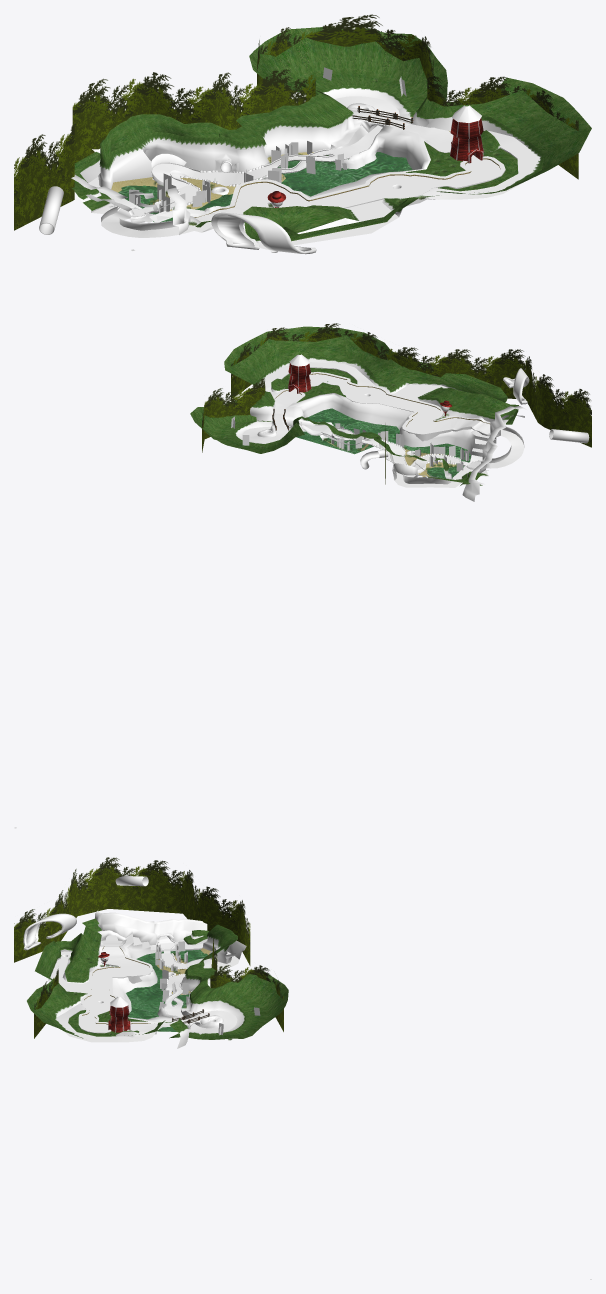
The model's file is minigolf_track.glb.
3 renders of one model, top to bottom at view 1: azimuth 30°, elevation 25°; view 2: azimuth 150°, elevation 25°; view 3: azimuth 270°, elevation 25°, orthographic. The views are drawn at different scales.
Visible parts, largest first — view 1: racetrack_grass-dark.jpg__, foliage.png__, rock_grey.jpg__, astro_turf.jpg__, bow_tile.jpg__, tarmac.jpg__, rock_brown.jpg__, racetrack_blend-dark.png__, seabed.jpg__, GrassTall.png__, HortonRockWall2.jpg__, ribbed_steel.jpg__ (+5 smaller); view 2: racetrack_grass-dark.jpg__, foliage.png__, rock_brown.jpg__, astro_turf.jpg__, bow_tile.jpg__, tarmac.jpg__, seabed.jpg__, rock_grey.jpg__, racetrack_blend-dark.png__, HortonRockWall2.jpg__, GrassTall.png__, windmill_wall.jpg__; view 3: foliage.png__, racetrack_grass-dark.jpg__, astro_turf.jpg__, bow_tile.jpg__, rock_brown.jpg__, HortonRockWall2.jpg__, rock_grey.jpg__, tarmac.jpg__, seabed.jpg__, racetrack_blend-dark.png__, GrassTall.png__, windmill_wall.jpg__.
Boxes of the visible parts, <box> form: racetrack_grass-dark.jpg__: <box>71,27,591,241</box>; foliage.png__: <box>14,14,578,230</box>; rock_grey.jpg__: <box>92,87,411,226</box>; astro_turf.jpg__: <box>156,96,500,226</box>; bow_tile.jpg__: <box>88,130,540,249</box>; tarmac.jpg__: <box>39,141,518,254</box>; rock_brown.jpg__: <box>79,112,541,251</box>; racetrack_blend-dark.png__: <box>78,85,544,240</box>; seabed.jpg__: <box>118,152,412,222</box>; GrassTall.png__: <box>129,67,406,212</box>; HortonRockWall2.jpg__: <box>71,112,410,234</box>; ribbed_steel.jpg__: <box>101,105,481,252</box>; racetrack_grass-dark.jpg__: <box>190,326,518,485</box>; foliage.png__: <box>202,323,591,484</box>; rock_brown.jpg__: <box>250,358,527,478</box>; astro_turf.jpg__: <box>242,374,490,465</box>; bow_tile.jpg__: <box>260,362,495,487</box>; tarmac.jpg__: <box>281,367,589,479</box>; seabed.jpg__: <box>296,408,470,478</box>; rock_grey.jpg__: <box>235,419,508,484</box>; racetrack_blend-dark.png__: <box>234,355,494,485</box>; HortonRockWall2.jpg__: <box>272,406,526,501</box>; GrassTall.png__: <box>231,416,468,471</box>; windmill_wall.jpg__: <box>288,363,451,416</box>; foliage.png__: <box>14,857,283,1038</box>; racetrack_grass-dark.jpg__: <box>27,918,288,1039</box>; astro_turf.jpg__: <box>82,944,237,1033</box>; bow_tile.jpg__: <box>48,933,239,1042</box>; rock_brown.jpg__: <box>24,922,230,1048</box>; HortonRockWall2.jpg__: <box>95,910,207,1029</box>; rock_grey.jpg__: <box>98,930,246,1034</box>; tarmac.jpg__: <box>23,876,227,1035</box>; seabed.jpg__: <box>126,949,207,1031</box>; racetrack_blend-dark.png__: <box>49,930,246,1038</box>; GrassTall.png__: <box>155,941,260,1035</box>; windmill_wall.jpg__: <box>98,952,130,1032</box>.
Bounding box in the file's own units: 360 × 295 × 548.
28 materials, 18 textured.
